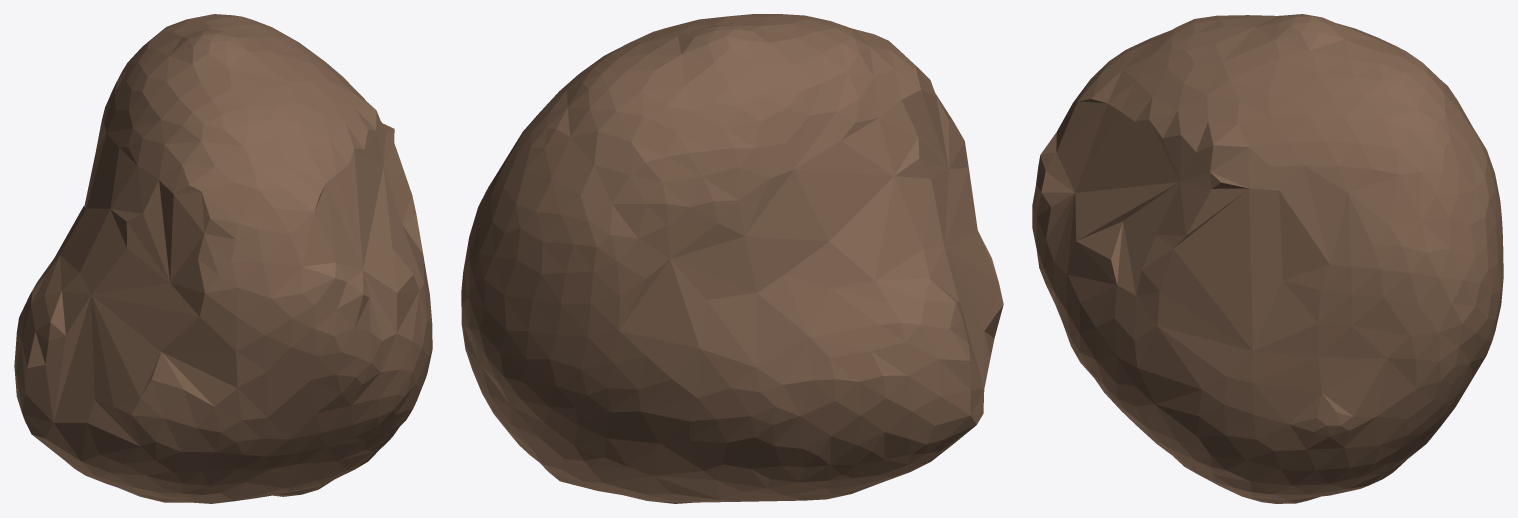
File: Model_654_RH__Lateral_(dentate)_cerebellar_nucleus_(Lat).obj
The picture shows the model from 3 angles, left to right: view 1: azimuth 30°, elevation 25°; view 2: azimuth 150°, elevation 25°; view 3: azimuth 270°, elevation 25°; orthographic projection. The views are drawn at different scales.
Size of the model in its own units: 1.36 by 1.44 by 1.38.
